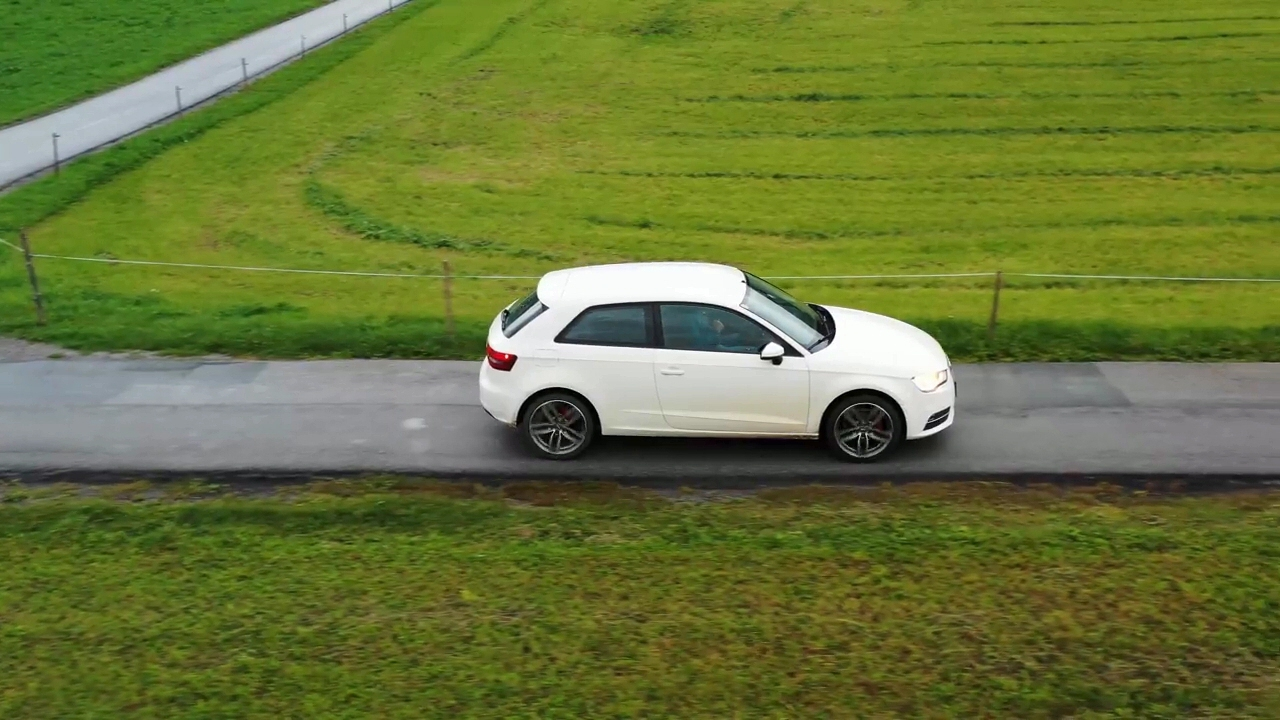araba: (469, 262, 959, 461)
